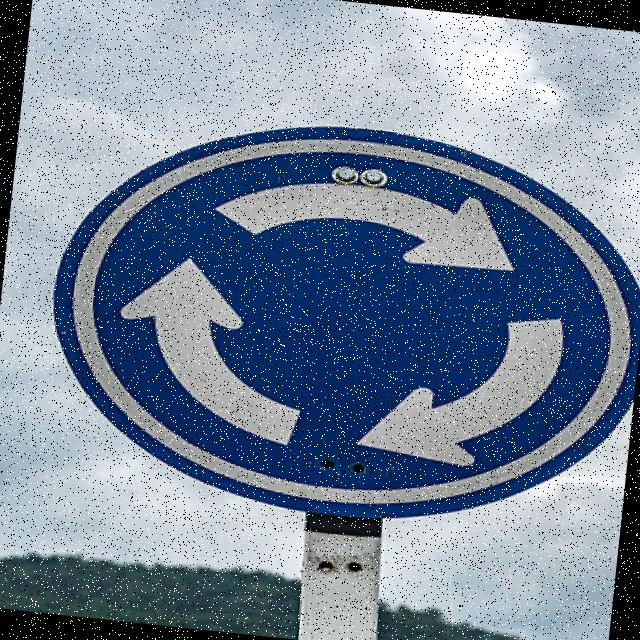round_about: (31, 91, 640, 537)
